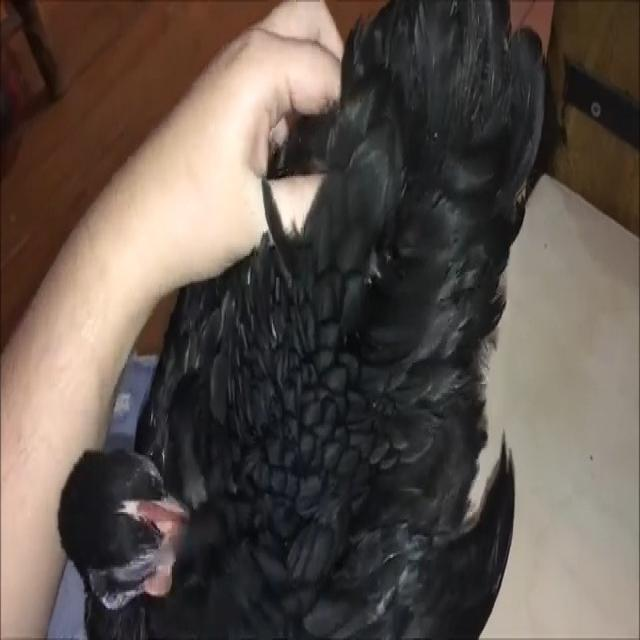self preening: (56, 0, 542, 640)
